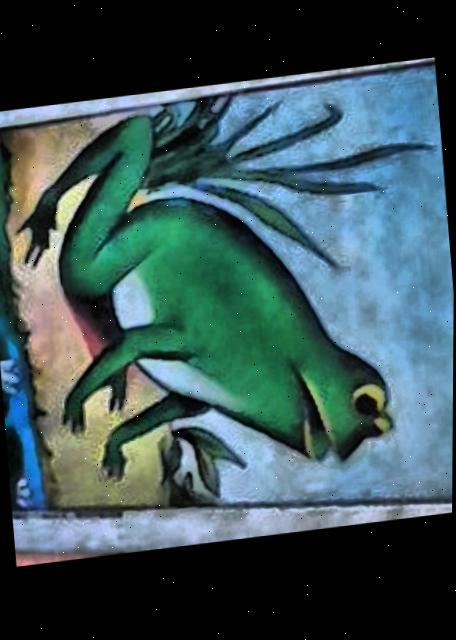La Rana: (0, 68, 454, 510)
